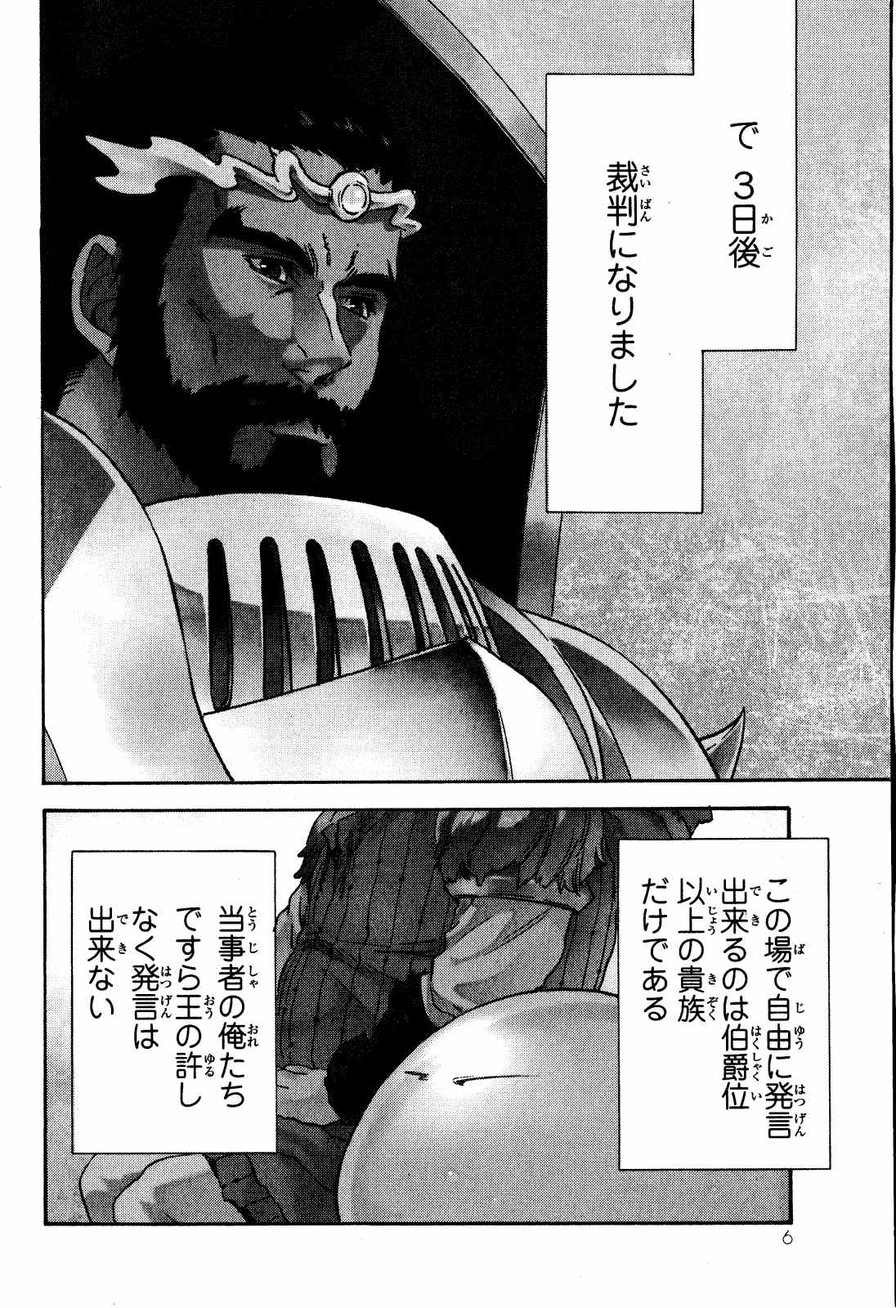bubbles: (540, 1, 802, 517), (614, 835, 834, 1174), (69, 848, 284, 1159)
